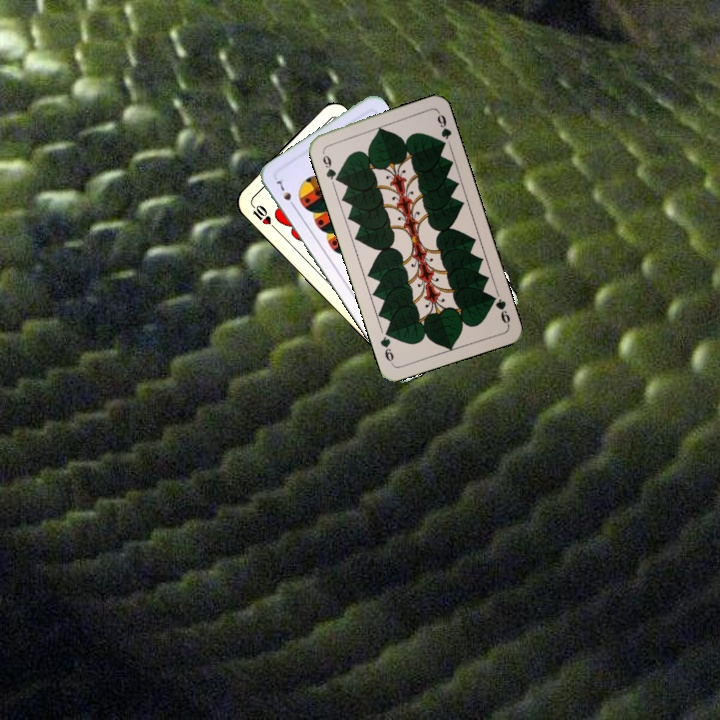G9: (486, 290, 513, 328), (318, 146, 342, 184)
H10: (247, 199, 279, 232)
S7: (272, 174, 298, 211)
